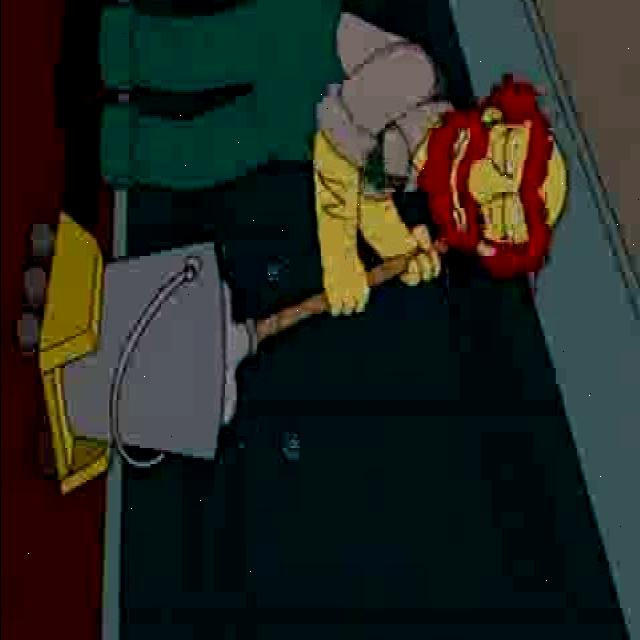Groundskeeper Willie: (415, 70, 569, 286)
